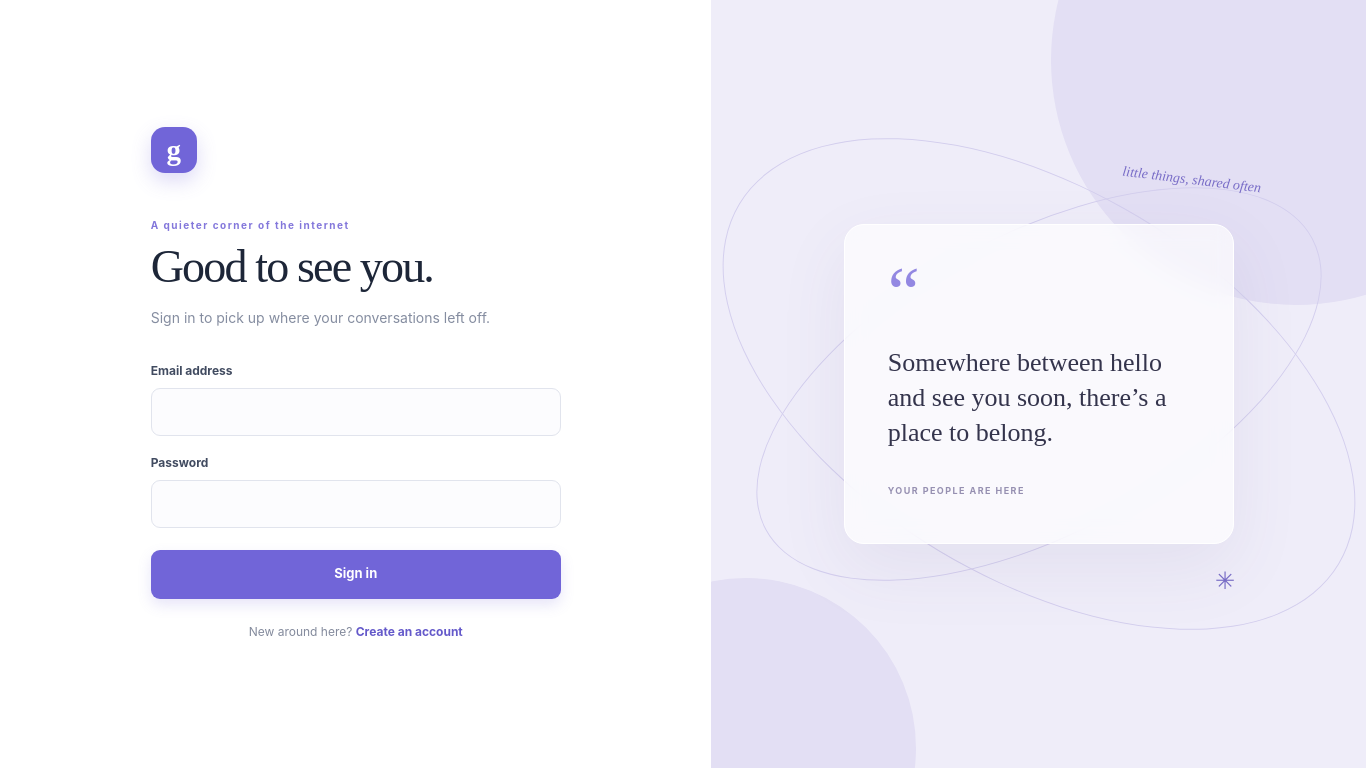
Scenario: chat client › registers and renders the empty chat-list and conversation states
Click the button "Create an account" at (409, 632), box [356,623,463,641]
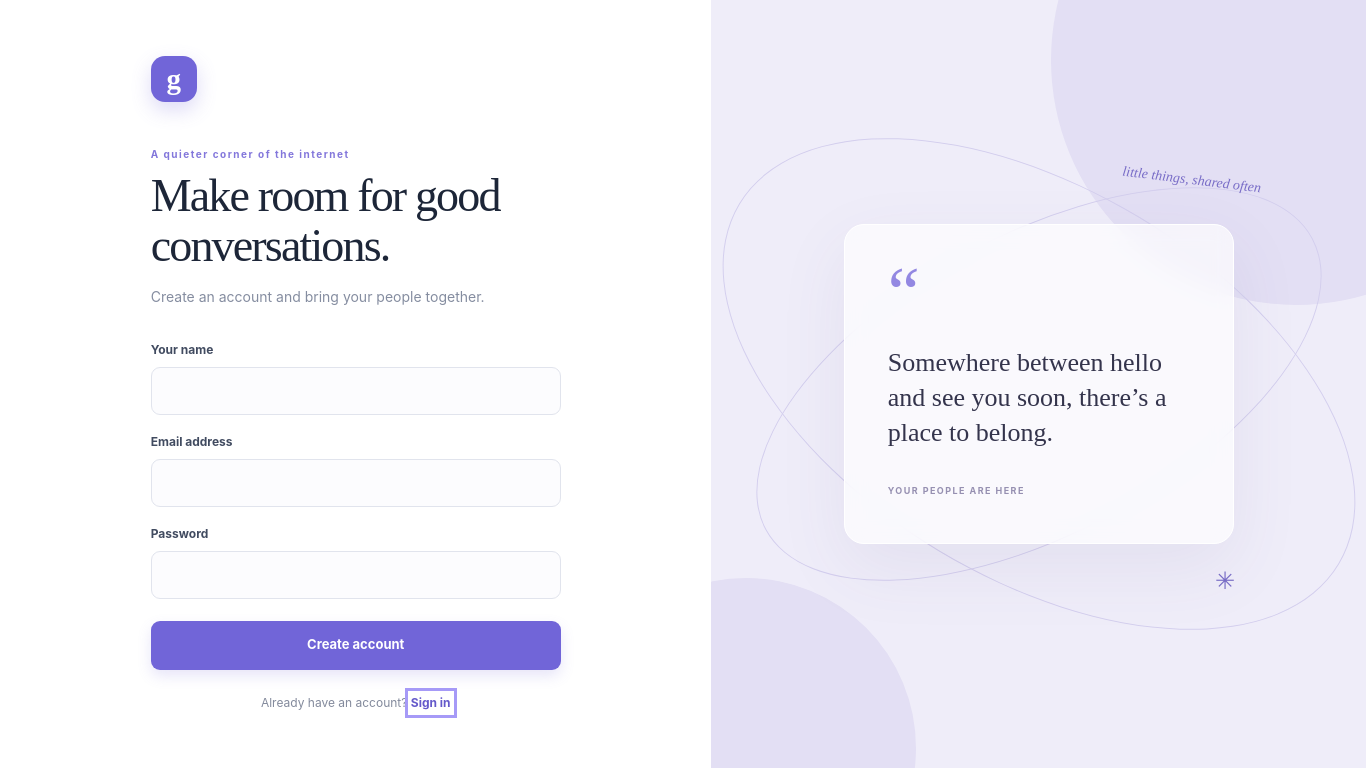
Type "Taylor" into the field labelled "Your name" at (356, 391), box [151,367,561,415]
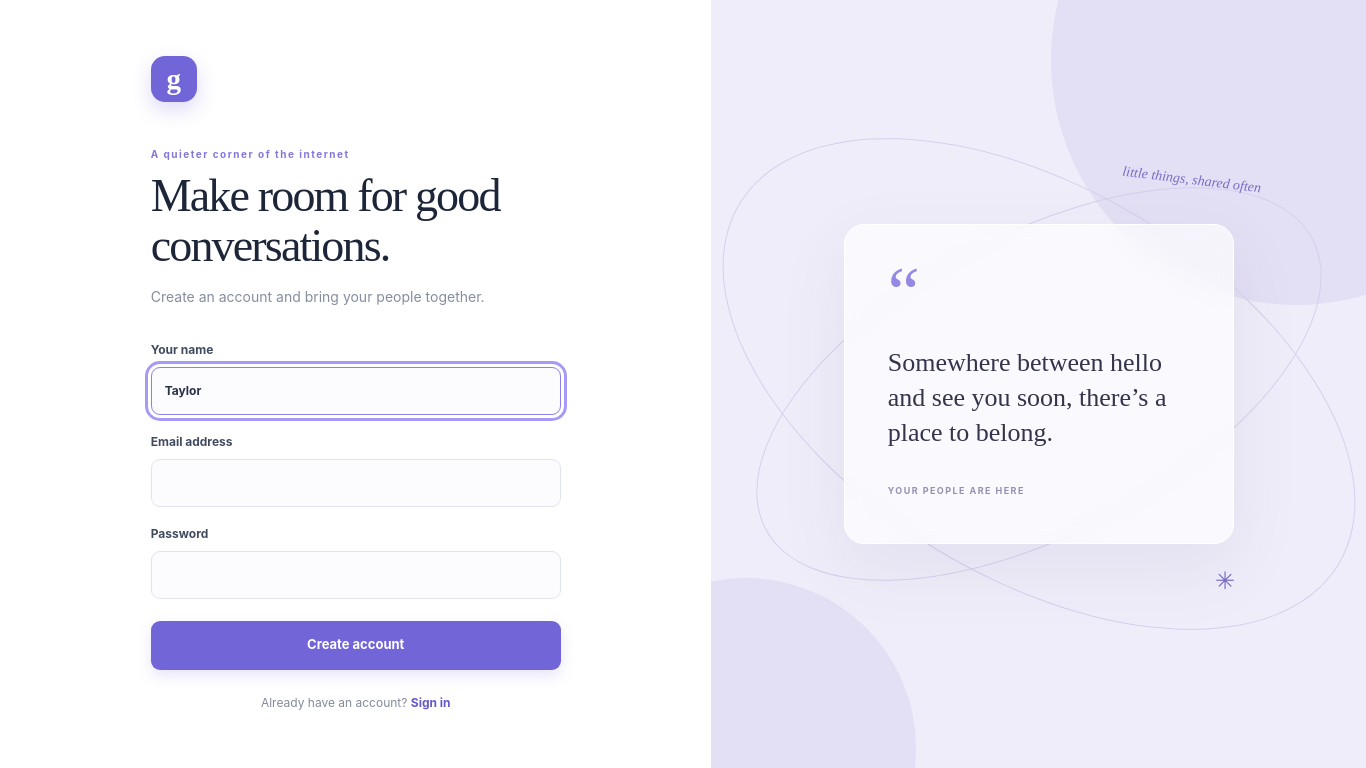
Type "person@example.test" into the field labelled "Email address" at (356, 483), box [151,459,561,507]
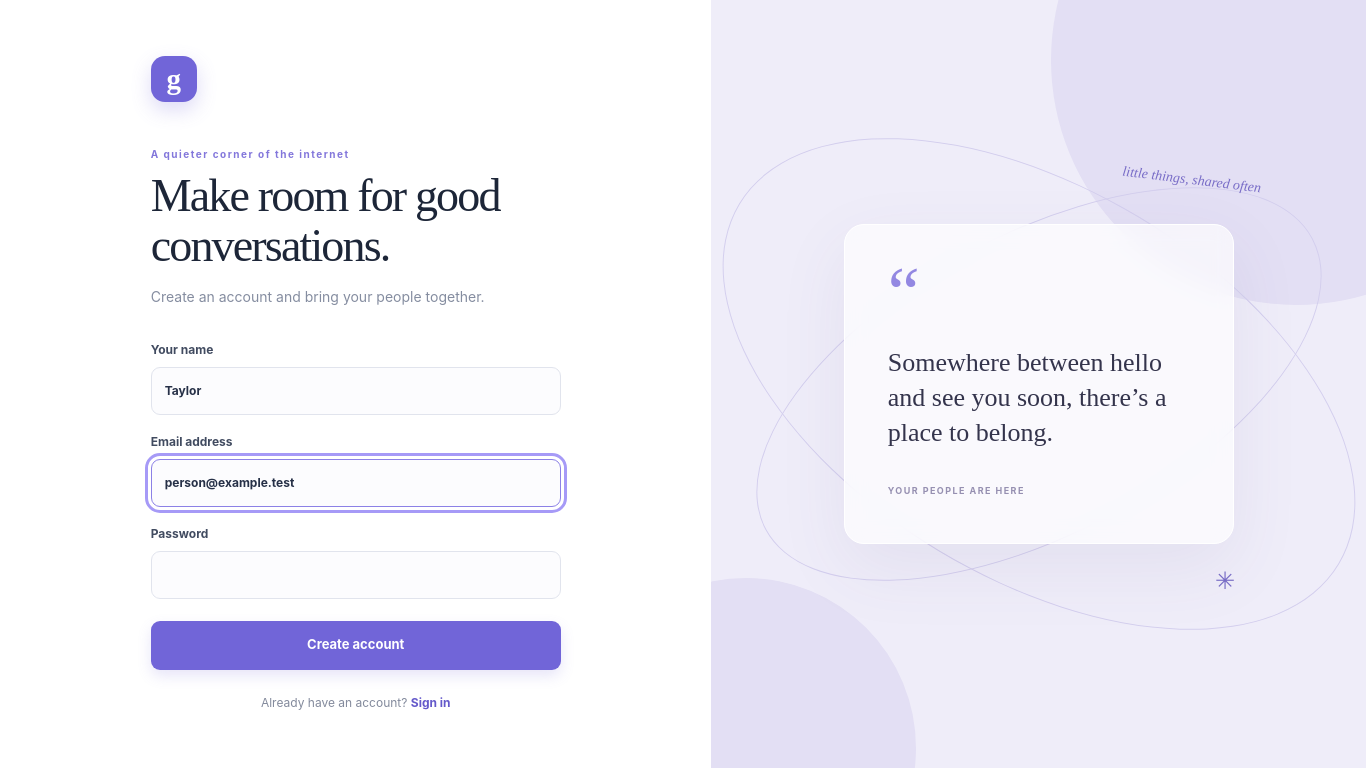
Type "a-secure-password" into the password field labelled "Password" at (356, 575), box [151,551,561,599]
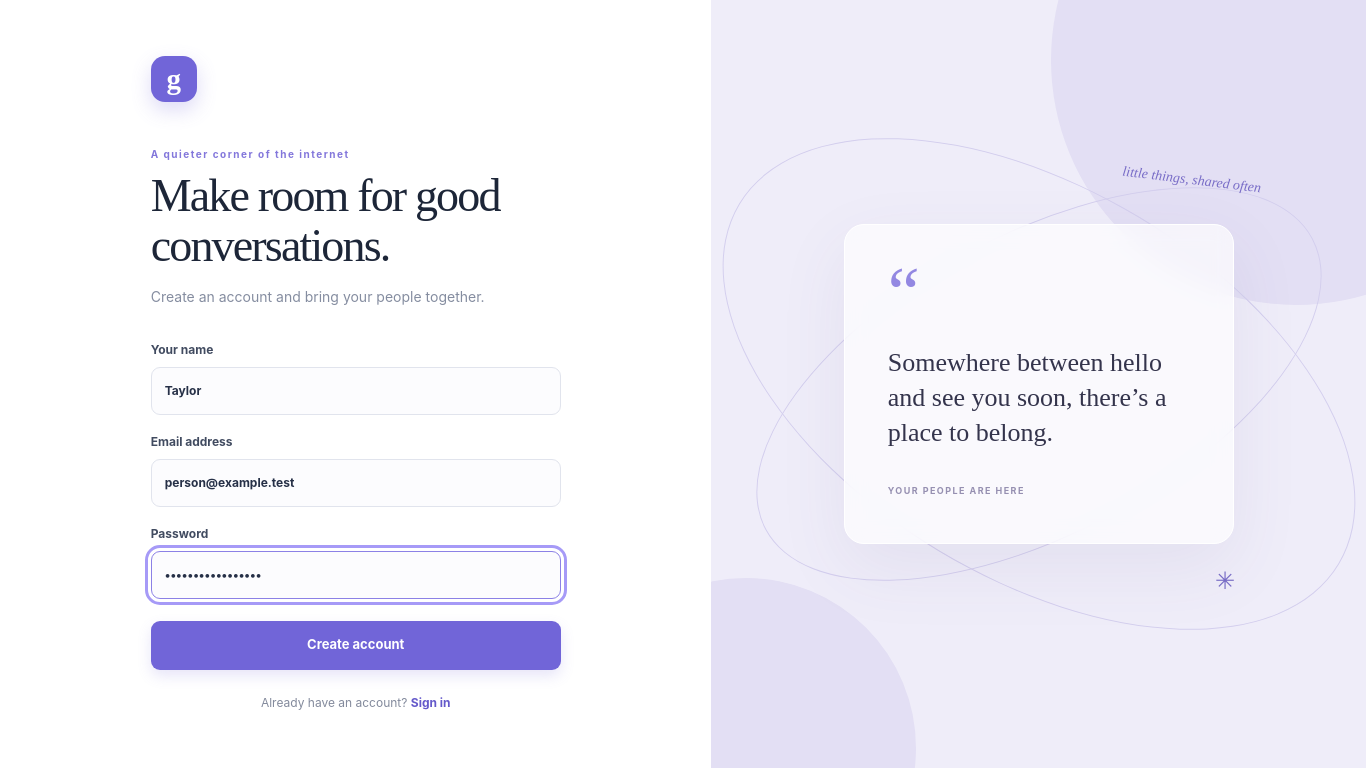
Click the button "Create account" at (356, 645), box [151,621,561,670]
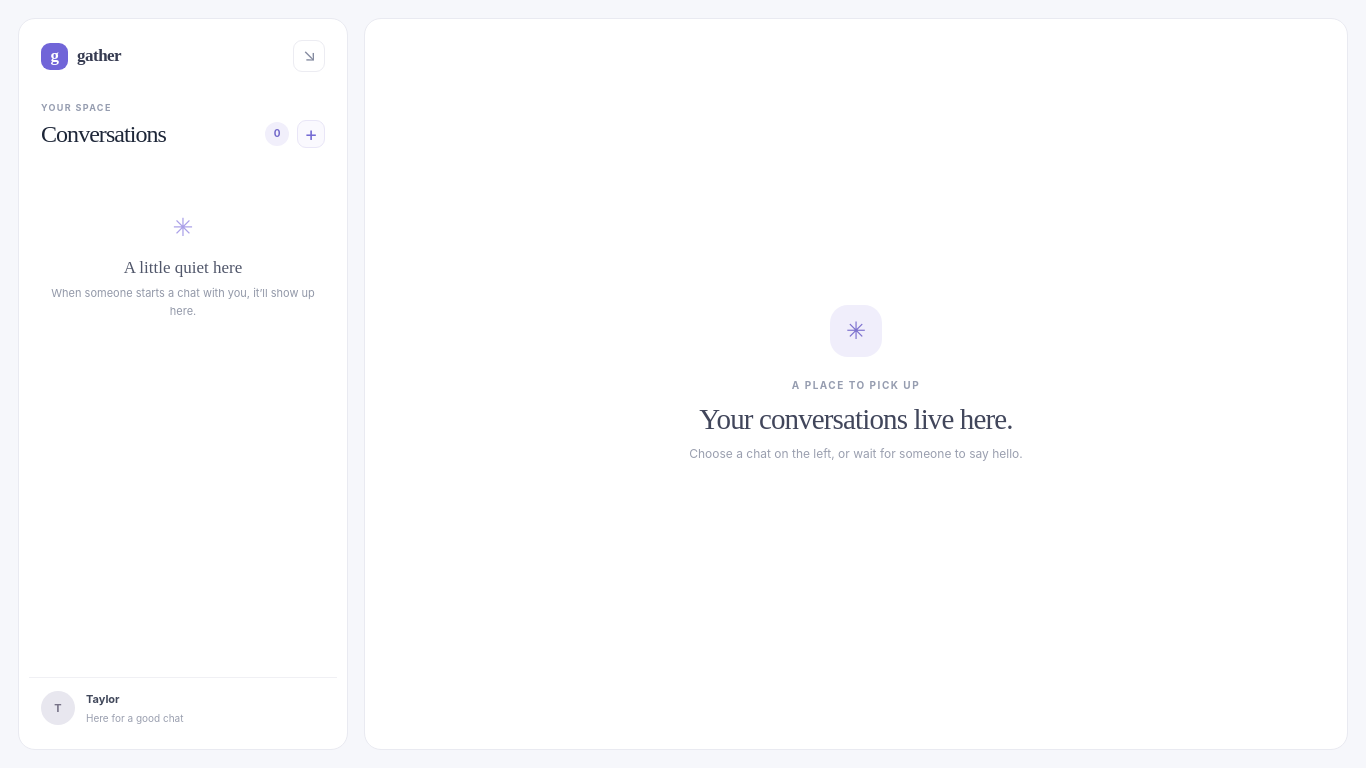
Check: the heading "A little quiet here" is shown, box [124,258,242,277]
Check: the heading "Your conversations live here." is shown, box [699,403,1013,436]
